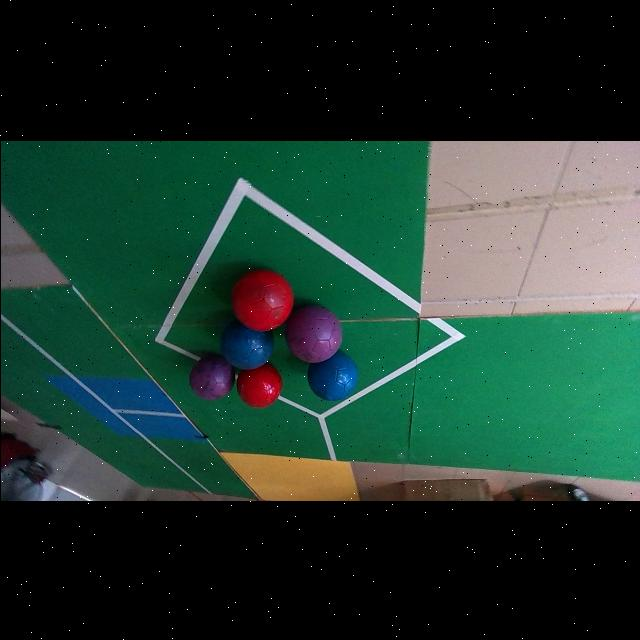B: (219, 320, 272, 368), (307, 350, 357, 400)
P: (284, 305, 342, 362), (188, 354, 235, 399)
R: (229, 269, 293, 331), (236, 362, 282, 407)
